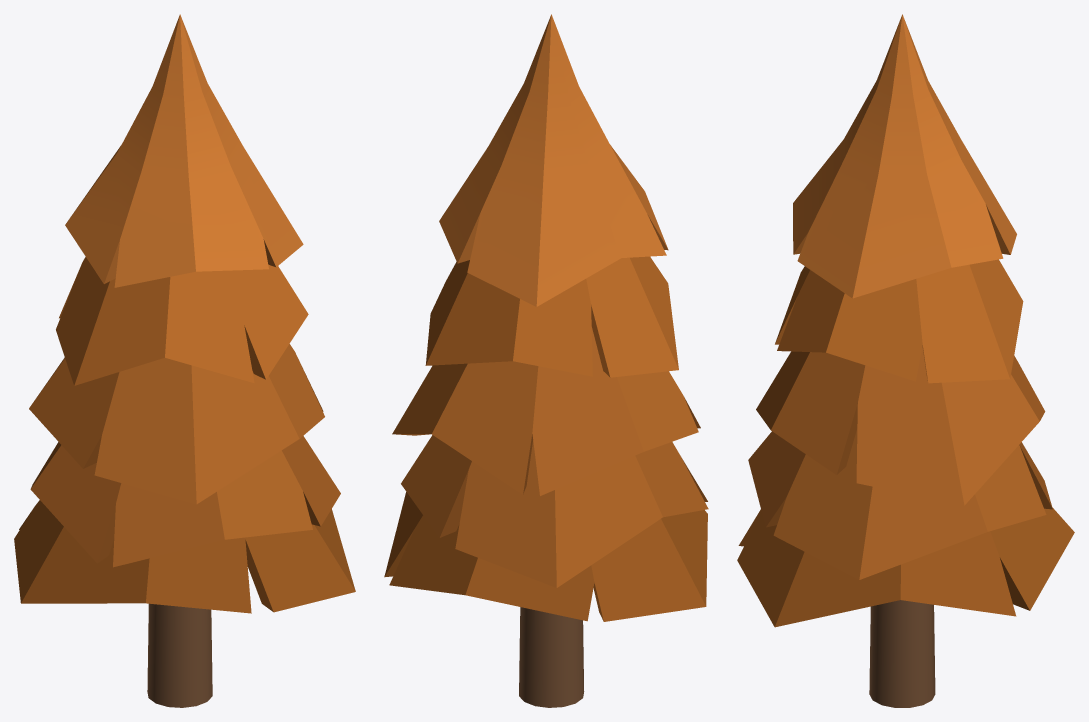
Rendered from Spruce_Orange_3.fbx.
3 views of the same model, side by side, from view 1: azimuth 30°, elevation 25°; view 2: azimuth 150°, elevation 25°; view 3: azimuth 270°, elevation 25° (orthographic).
Visible parts, largest first — view 1: Cylinder.454, Cylinder.455, Cylinder.456, Cylinder.458, Cylinder.457, Cylinder.459; view 2: Cylinder.454, Cylinder.455, Cylinder.457, Cylinder.456, Cylinder.458, Cylinder.459; view 3: Cylinder.454, Cylinder.455, Cylinder.457, Cylinder.456, Cylinder.458, Cylinder.459.
Part boxes in pixels (left/top/right/bottom): Cylinder.454: left=65, top=14, right=303, bottom=287; Cylinder.455: left=29, top=344, right=324, bottom=504; Cylinder.456: left=56, top=257, right=308, bottom=385; Cylinder.458: left=14, top=500, right=355, bottom=613; Cylinder.457: left=30, top=436, right=340, bottom=567; Cylinder.459: left=147, top=603, right=212, bottom=707; Cylinder.454: left=439, top=14, right=668, bottom=306; Cylinder.455: left=392, top=327, right=700, bottom=495; Cylinder.457: left=401, top=435, right=708, bottom=587; Cylinder.456: left=425, top=256, right=678, bottom=377; Cylinder.458: left=384, top=492, right=707, bottom=621; Cylinder.459: left=519, top=607, right=584, bottom=707; Cylinder.454: left=793, top=14, right=1016, bottom=298; Cylinder.455: left=756, top=346, right=1045, bottom=505; Cylinder.457: left=748, top=429, right=1052, bottom=579; Cylinder.456: left=775, top=259, right=1023, bottom=383; Cylinder.458: left=737, top=507, right=1074, bottom=627; Cylinder.459: left=869, top=600, right=935, bottom=707.
Bounding box in the file's own units: 265 × 567 × 255.
